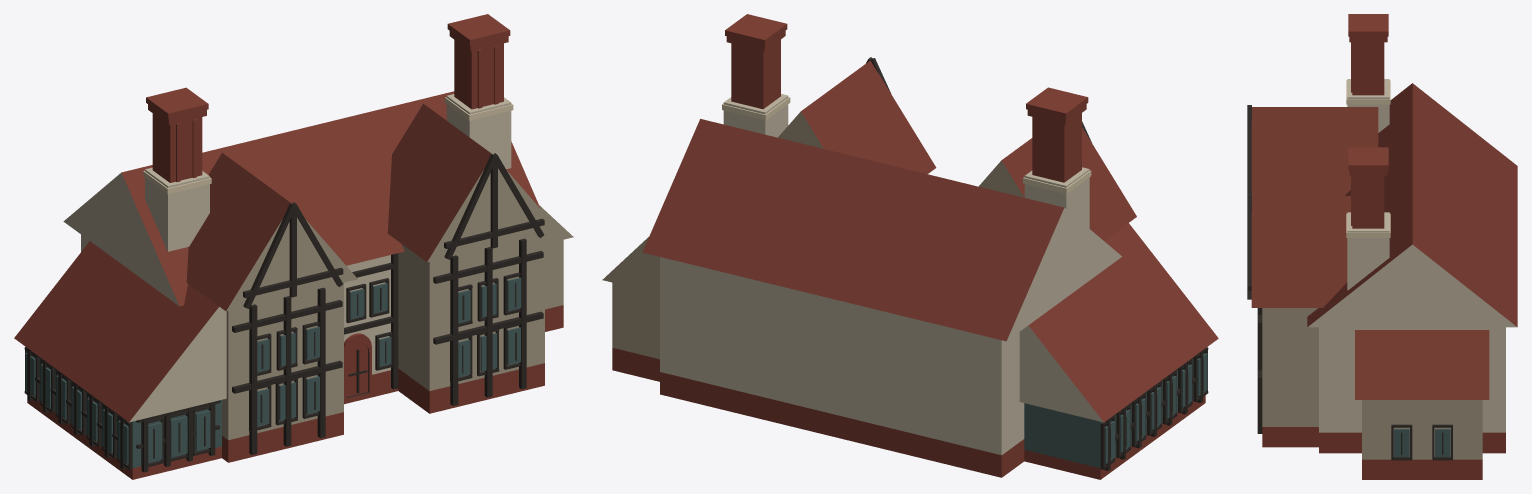
The model's file is hudec-memorial-master.glb.
3 views of the same model, side by side, from view 1: azimuth 30°, elevation 25°; view 2: azimuth 150°, elevation 25°; view 3: azimuth 270°, elevation 25° (orthographic). The views are drawn at different scales.
Visible parts, largest first — view 1: hudec-memorial-master; view 2: hudec-memorial-master; view 3: hudec-memorial-master.
Part boxes in pixels (<box>): hudec-memorial-master: <box>14,14,573,479</box>; hudec-memorial-master: <box>602,14,1218,479</box>; hudec-memorial-master: <box>1247,14,1517,479</box>.
Size of the model in its own units: 13.28 by 8.15 by 6.94.
